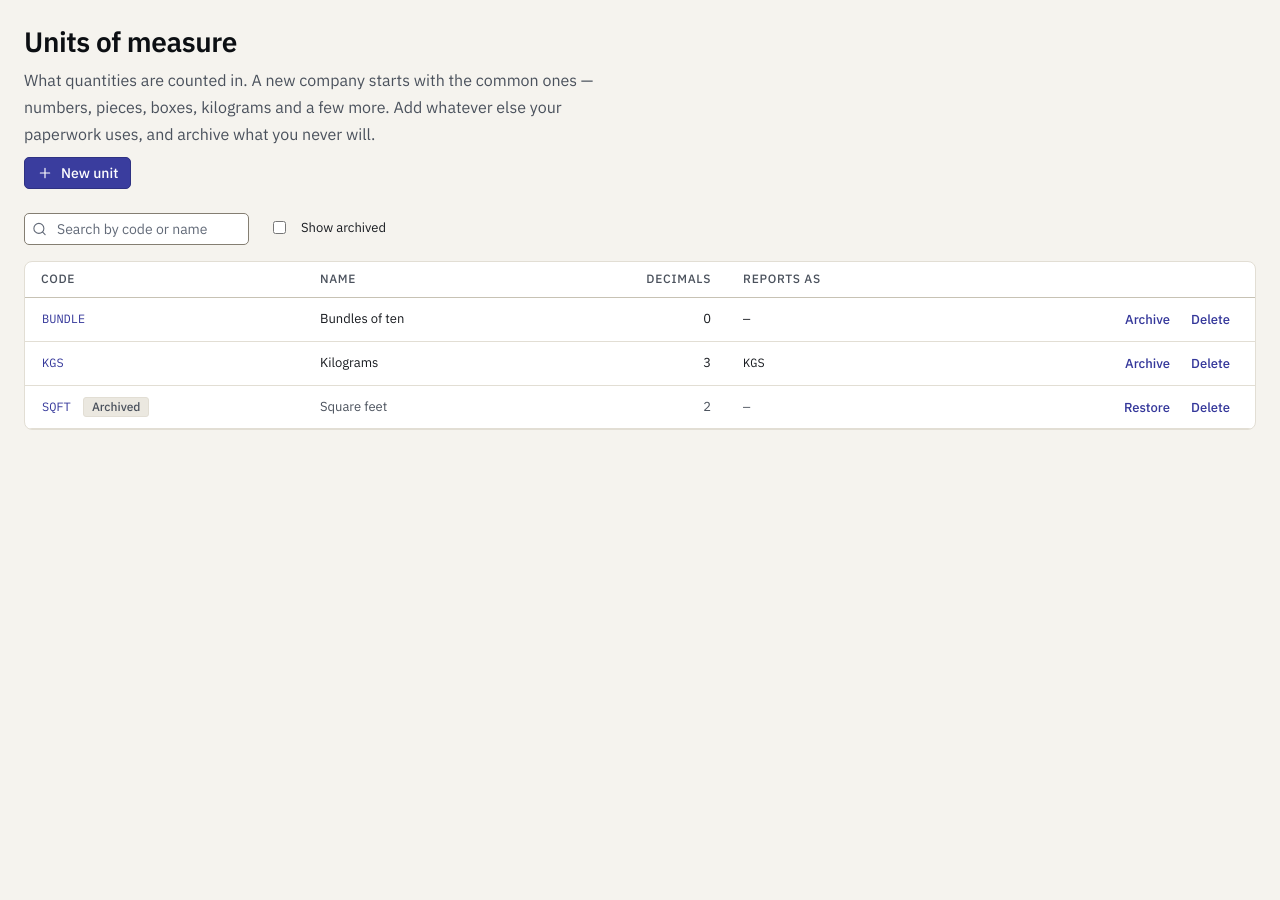
Test: editing › reads the unit back by its code before opening
Click the button "KGS".
click(53, 363)  # box x1=33 y1=350 x2=73 y2=377
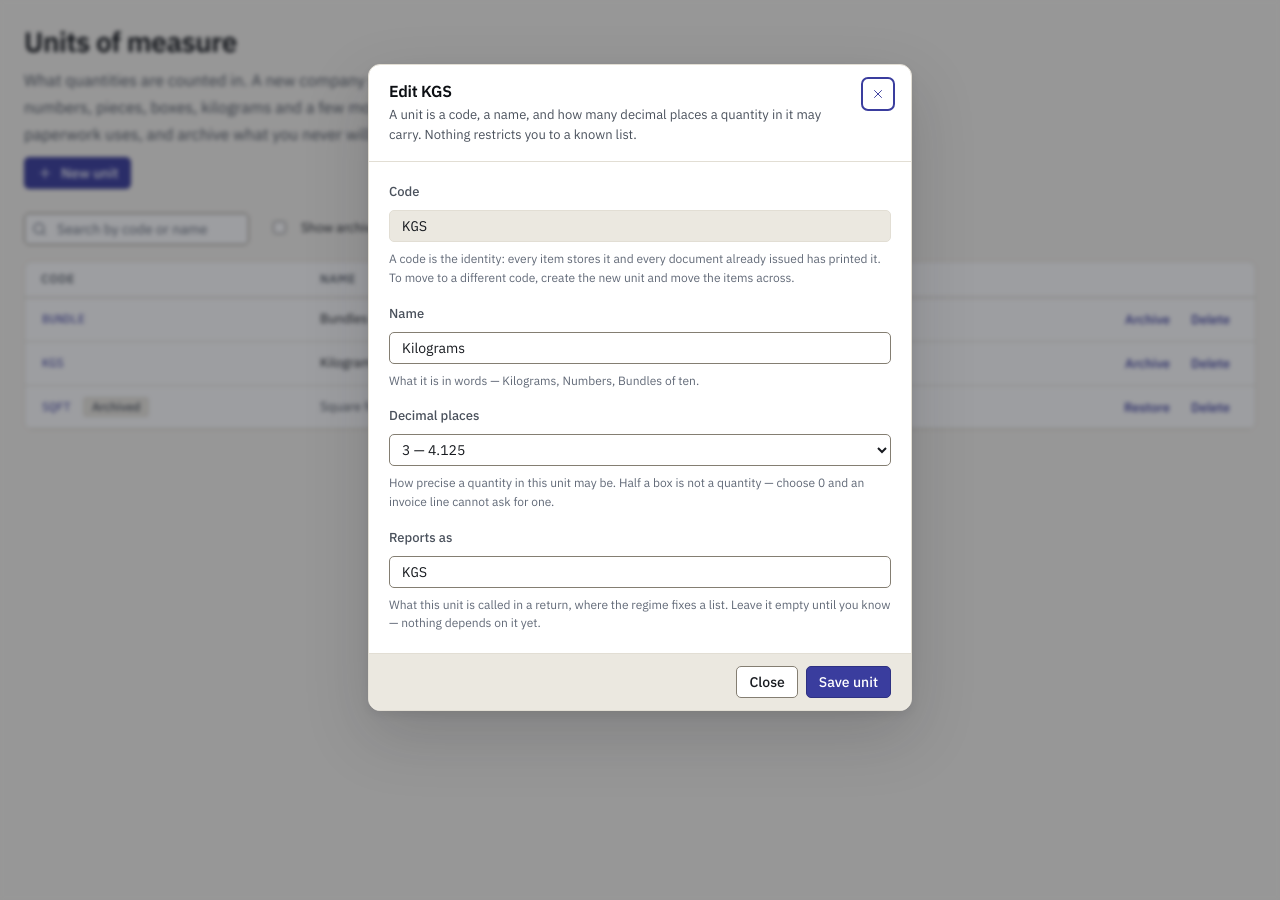
Check: the field labelled "Name" holds "Kilograms", box x1=389 y1=332 x2=891 y2=364
